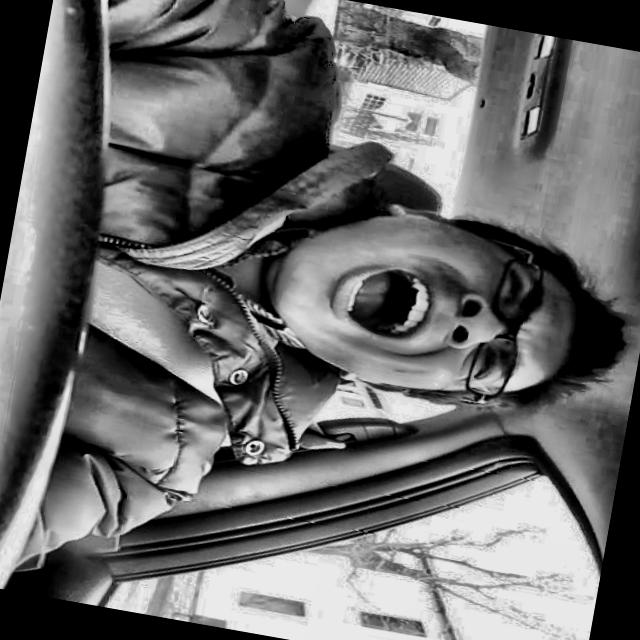closed_eyes: (492, 259, 538, 316), (465, 341, 513, 395)
open_mouth: (320, 253, 445, 357)
